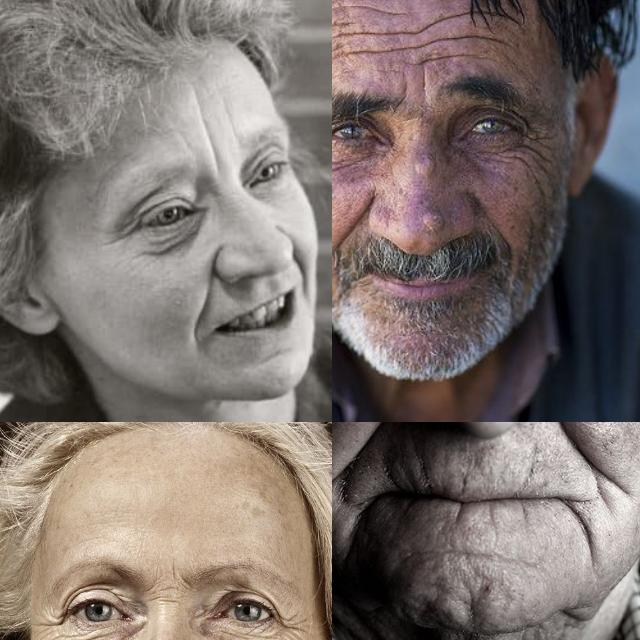chin: (434, 541, 518, 567), (461, 591, 485, 629)
crows_feet: (522, 119, 556, 177), (36, 608, 69, 640), (275, 613, 310, 640), (113, 215, 143, 239)
forehead: (439, 0, 517, 29), (372, 16, 422, 58), (436, 28, 504, 58), (190, 96, 216, 146), (332, 19, 356, 62)
frown_line: (146, 566, 190, 604), (411, 70, 435, 108)
gummy_smile: (548, 422, 604, 469), (342, 422, 399, 465), (190, 262, 216, 346), (340, 194, 372, 246), (286, 241, 310, 293), (496, 220, 516, 274)
sad_smile: (564, 500, 602, 566), (335, 502, 371, 552)
smoker_lines: (412, 451, 442, 485)
